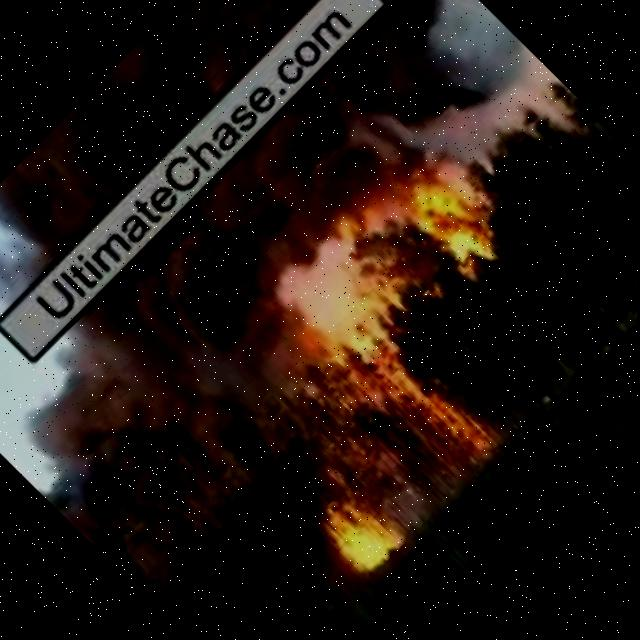Fire: (340, 309, 518, 497), (303, 474, 418, 593), (397, 168, 511, 287)
Smoke: (0, 0, 582, 576), (0, 0, 390, 290)
